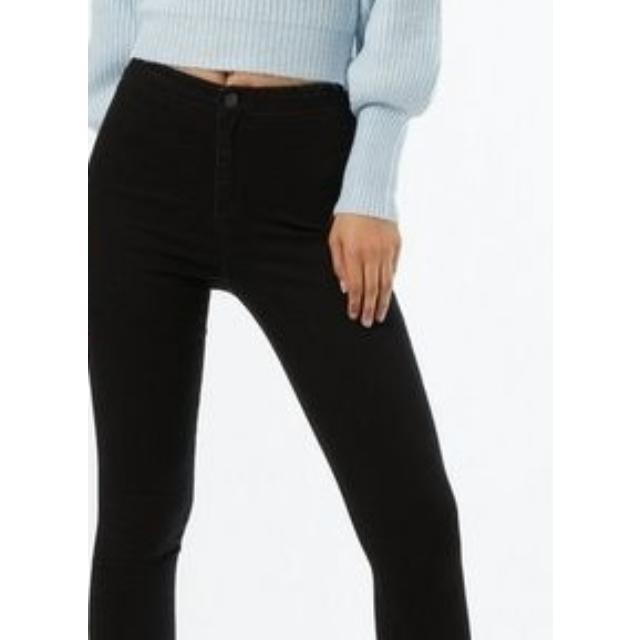polyester: (88, 0, 434, 640)
